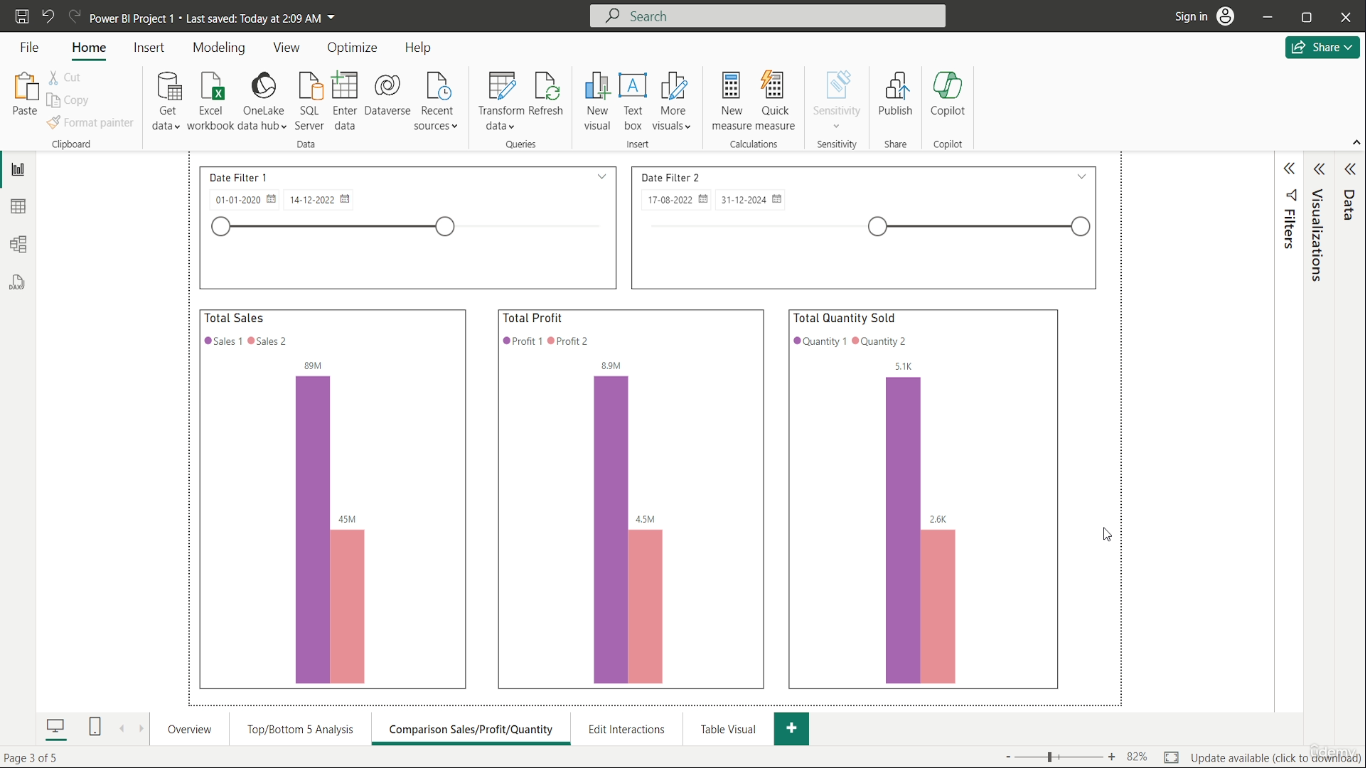

Layout of this report page (visuals, bound fields, positions):
{"tool":"powerbi","page":{"name":"Comparision Sales/ Profit/ Quantity","canvas":[1280,720],"ordinal":2},"visuals":[{"type":"slicer","fields":{"Values":["Date Table 1.Date"]},"box":[10.8,0,603.1,161.5],"z":0},{"type":"clusteredColumnChart","title":"Total Sales","fields":{"Y":["Sum(Fact table.Net Sales)","Date Table 1.Sum of Net Sales"]},"box":[0,193.8,398.5,526.2],"z":1000},{"type":"clusteredColumnChart","title":"Total Profit","fields":{"Y":["Measures Table.Total  Profit","Sum(Fact table.Profit)"]},"box":[452.3,193.8,393.8,526.2],"z":2000},{"type":"slicer","fields":{"Values":["Date Table 1.Date"]},"box":[640,0,604.6,161.5],"z":3000},{"type":"clusteredColumnChart","title":"Total Quantity Sold","fields":{"Y":["Sum(Fact table.Units Sold)","Measures Table.quantity sold"]},"box":[903.1,193.8,376.9,526.2],"z":4000}]}

Visuals, with their boxes on the page's 1280x720 design canvas (x1, y1, x2, y2). These are canvas units, not pixel positions in the 1366x768 screenshot, which may show the page scaled, cropped or inside an application window:
slicer - Date Table 1.Date: x1=11, y1=0, x2=614, y2=162
"Total Sales" clusteredColumnChart: x1=0, y1=194, x2=398, y2=720
"Total Profit" clusteredColumnChart: x1=452, y1=194, x2=846, y2=720
slicer - Date Table 1.Date: x1=640, y1=0, x2=1245, y2=162
"Total Quantity Sold" clusteredColumnChart: x1=903, y1=194, x2=1280, y2=720
